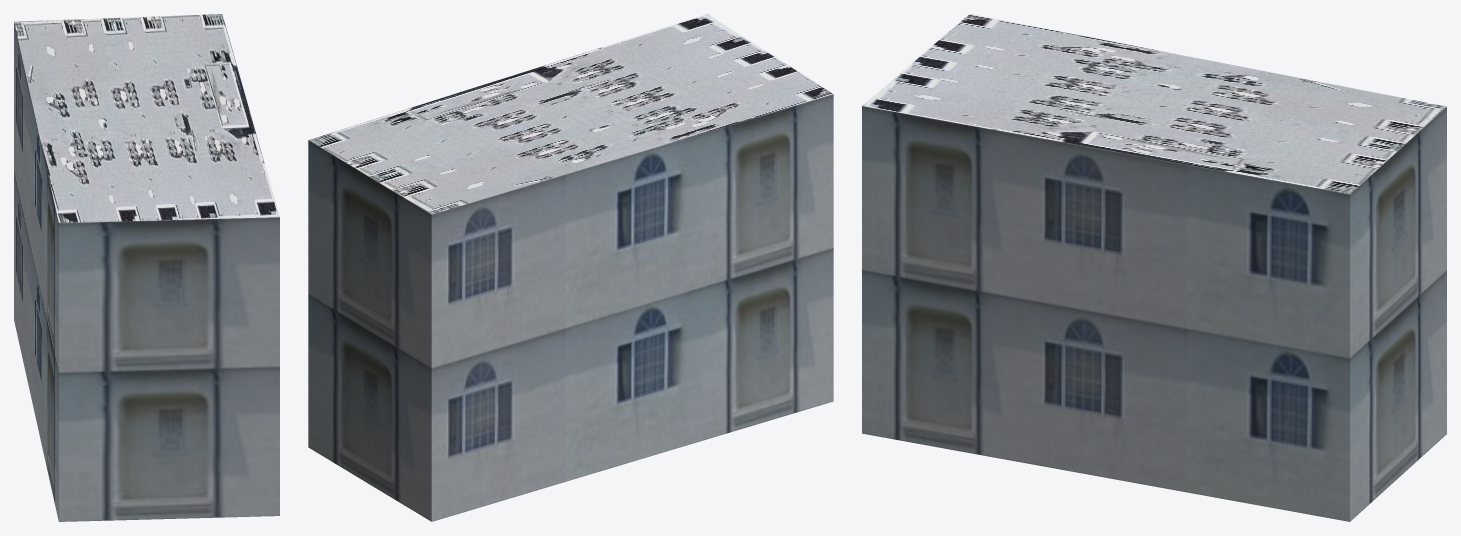
File: ResTex__1216.fbx
3 views of the same model, side by side, from view 1: azimuth 30°, elevation 25°; view 2: azimuth 150°, elevation 25°; view 3: azimuth 270°, elevation 25° (orthographic). The views are drawn at different scales.
Parts seen in each view (by area): view 1: CityEngineMaterial_17_m, CityEngineMaterial_2_m; view 2: CityEngineMaterial_17_m, CityEngineMaterial_2_m; view 3: CityEngineMaterial_17_m, CityEngineMaterial_2_m.
Part boxes in pixels (x1,y1,x2,y2): CityEngineMaterial_17_m: (14, 22, 279, 521); CityEngineMaterial_2_m: (14, 14, 279, 222); CityEngineMaterial_17_m: (308, 94, 833, 521); CityEngineMaterial_2_m: (309, 14, 832, 214); CityEngineMaterial_17_m: (862, 106, 1446, 521); CityEngineMaterial_2_m: (862, 14, 1446, 194).
Size of the model in its own units: 7.08 by 6 by 9.71.
Materials: 2 (2 with a texture image).
